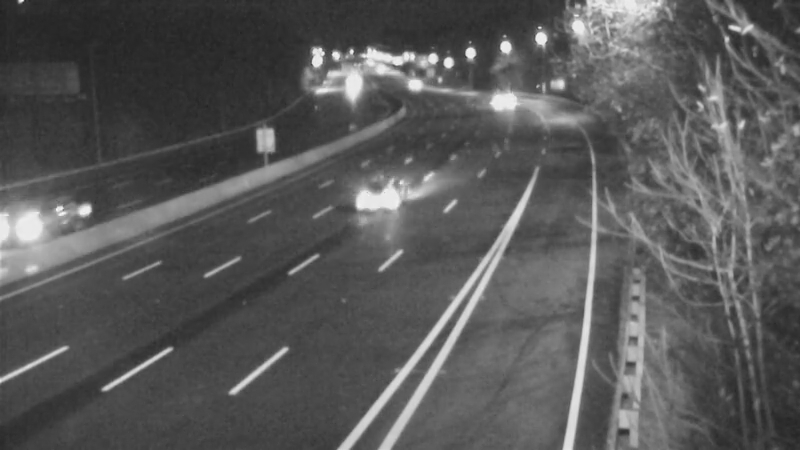vehicle: (348, 160, 428, 240), (1, 189, 78, 269), (389, 56, 439, 106), (477, 82, 527, 132)
